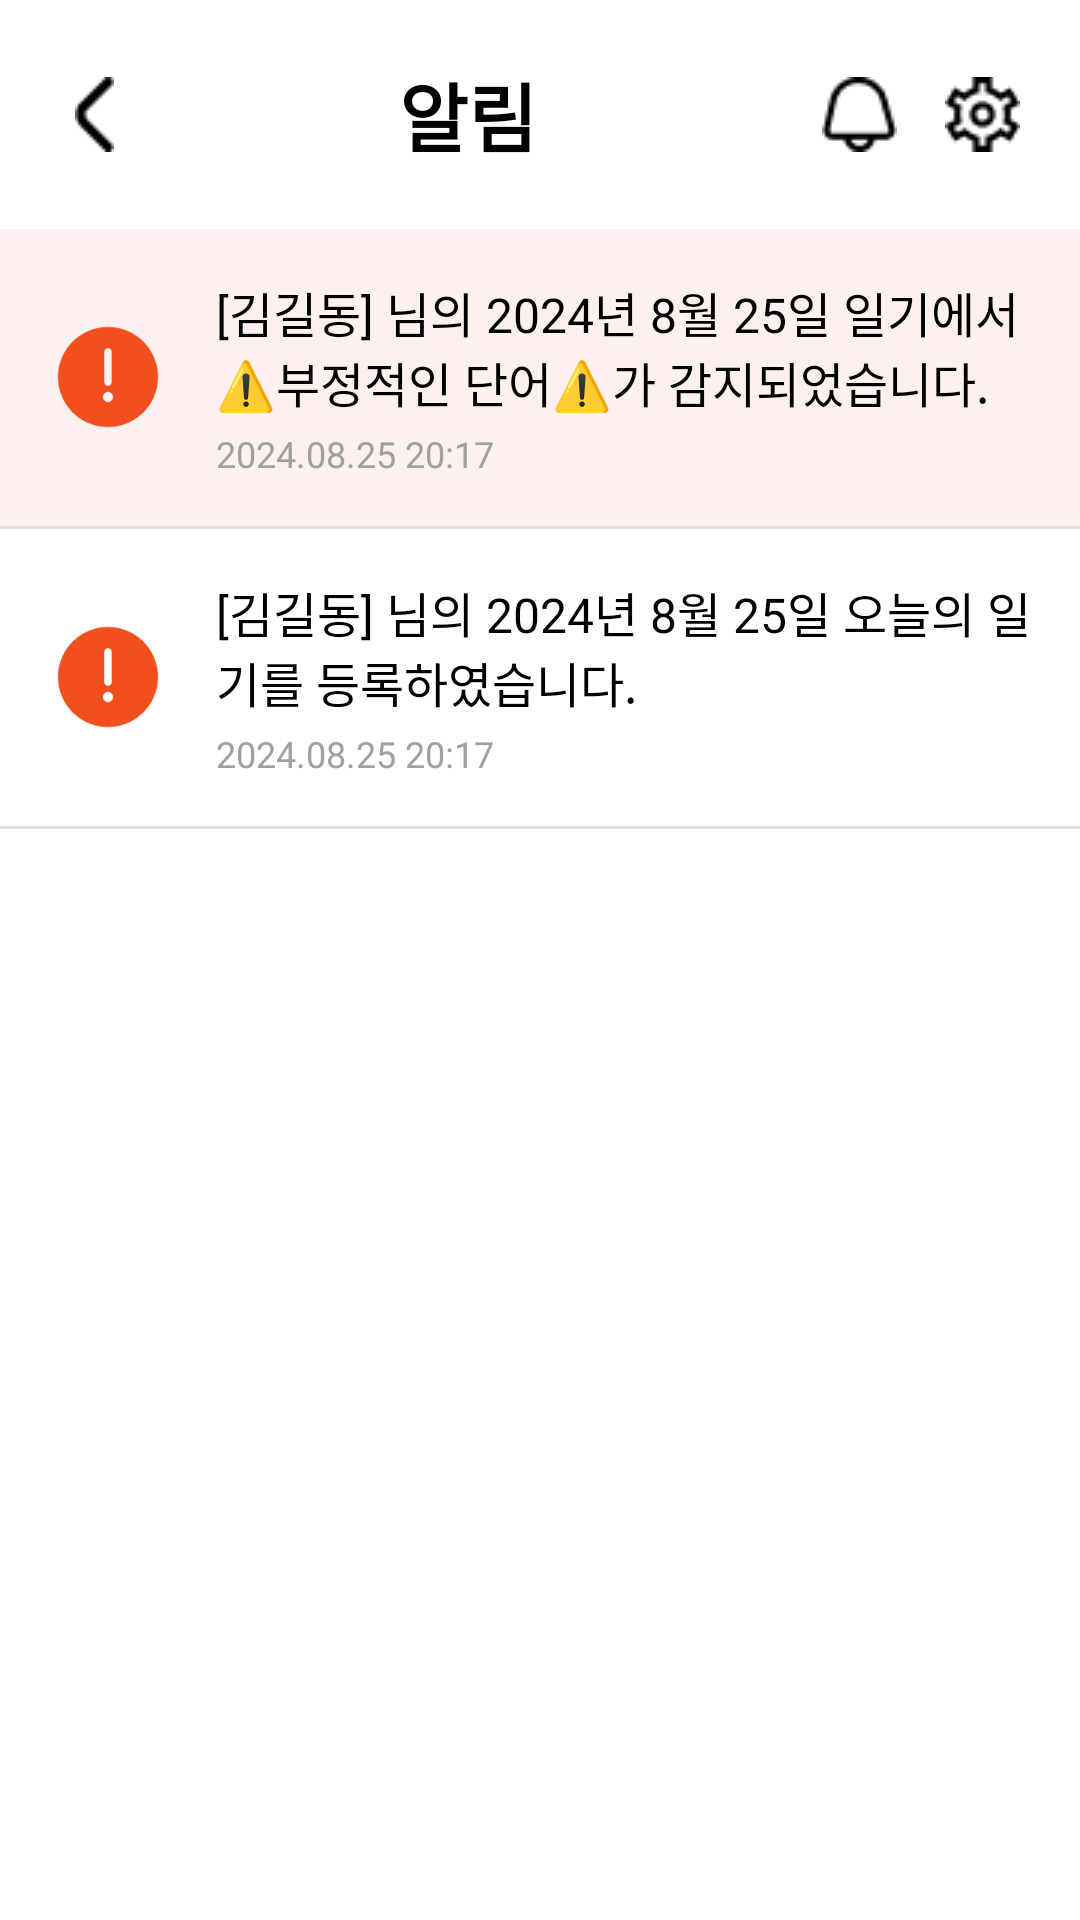

Icons on this 1080 × 1920 Android screen, each with the point to tap as (x,y):
bell: (859,114)
danger: (108,377), (108,677)
left arrow: (94,114)
setting: (982,114)
